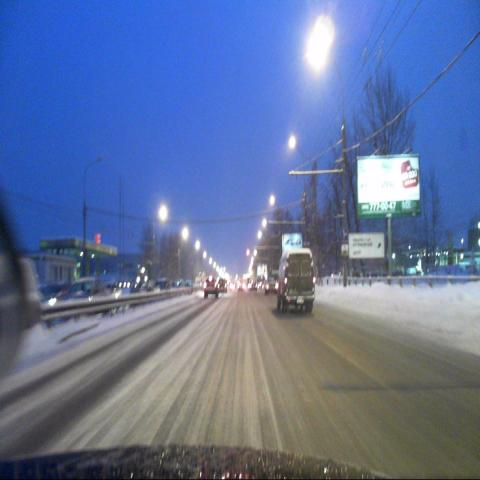4_1_4: (341, 228, 349, 242)
